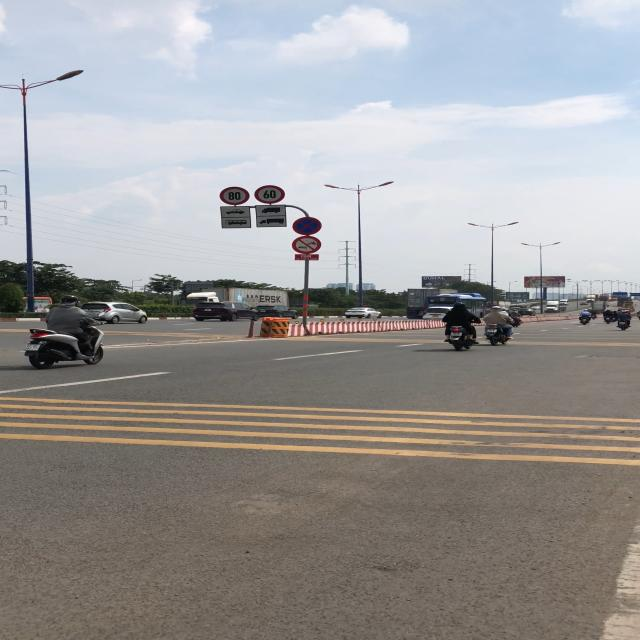Bien bao cam dung xe va do xe: (292, 214, 326, 237)
Bien bao toc do toi da cho phep: (253, 186, 286, 204), (220, 187, 251, 206)
